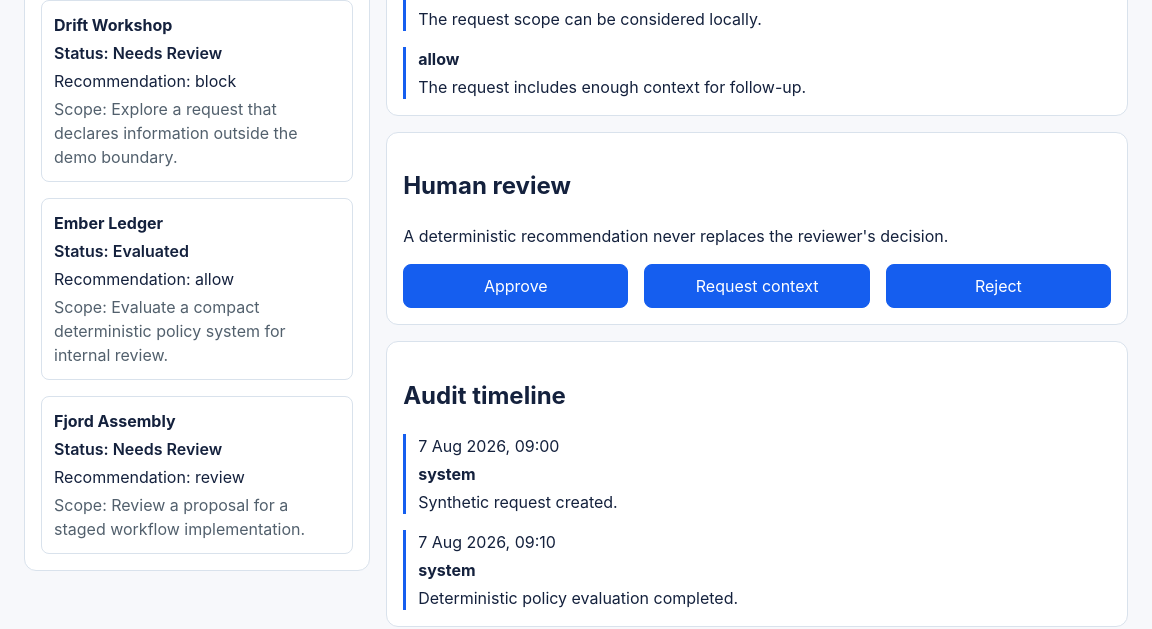
Test case: App › adds a human audit event and disables further actions after approval
(page scrolled)
Click the button "Approve" at (516, 286), box [403, 264, 628, 308]
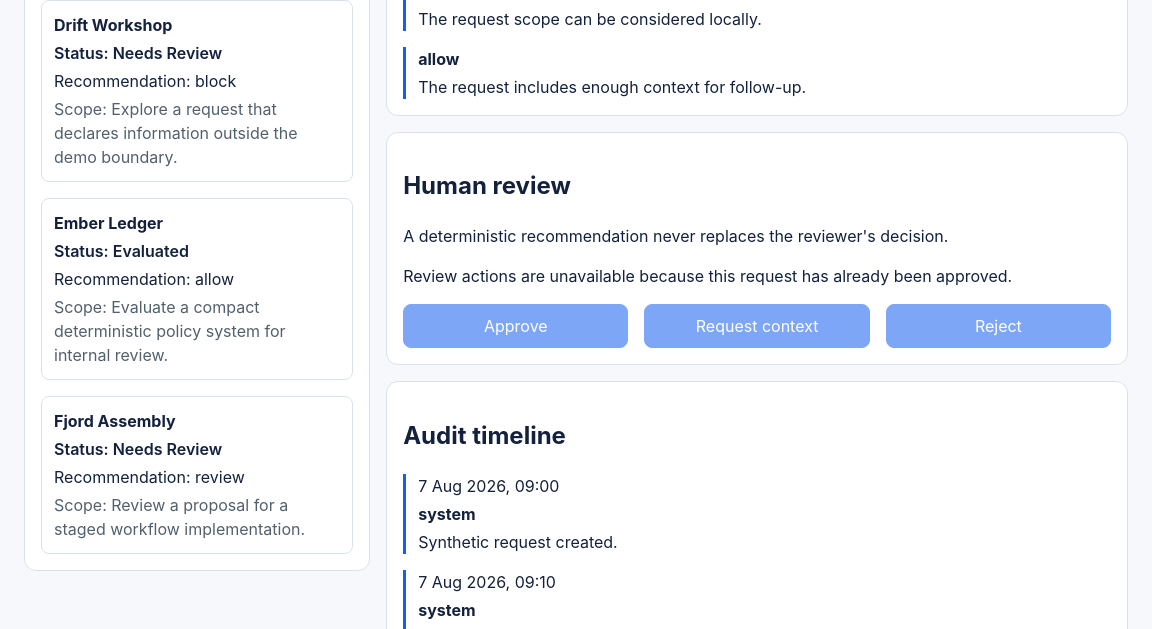
expect the button "Approve" is disabled: met, box [403, 304, 628, 348]
